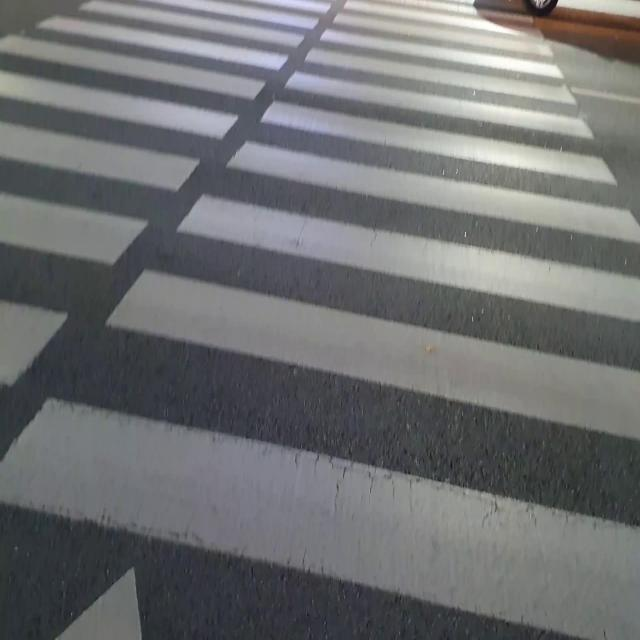crosswalk: (0, 1, 640, 640)
